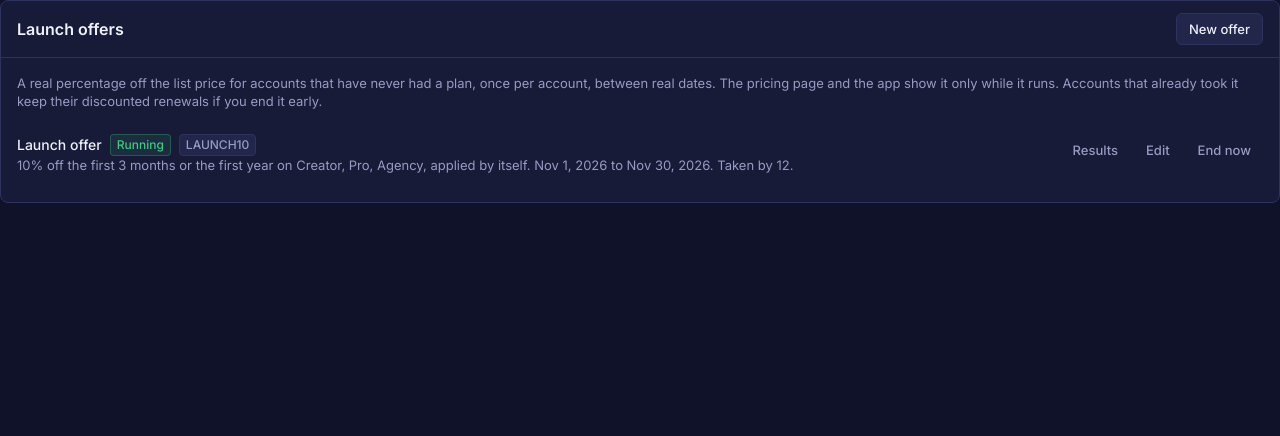
it: admin: launch offers and limits for new sign-ups (BI-9, BI-10) › shows how an offer did: redemptions by plan, discount with and without GST, renewals and conversion
This screenshot has width=1280, height=436.
Click the button "Results".
click(1095, 150)  # box left=1060, top=134, right=1130, bottom=166
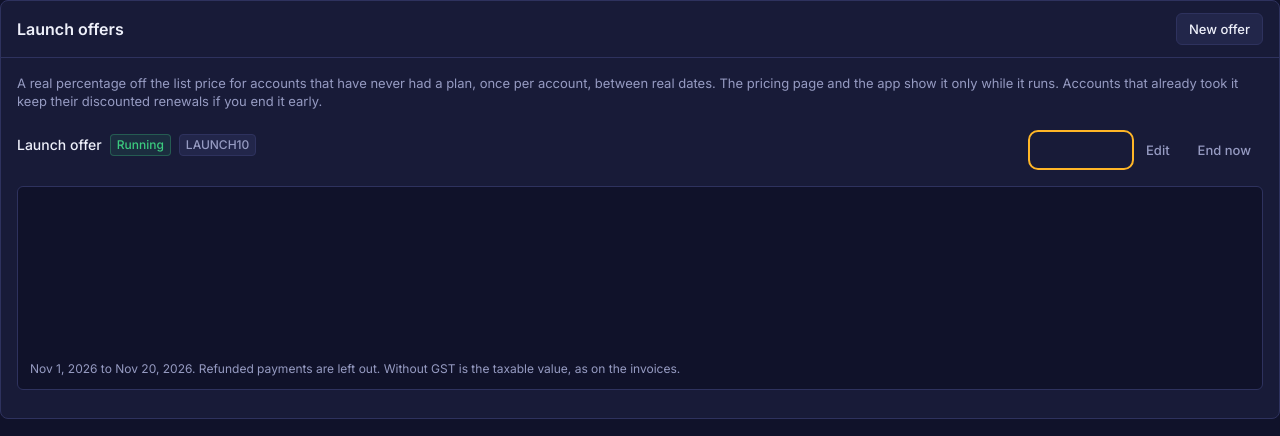
Result: the element with test id "offer-results-7" shows "3 accounts" at left=17, top=186, right=1263, bottom=390
Result: the element with test id "offer-results-7" shows "₹2,300 with GST, ₹1,949.16 without over 4 payments" at left=17, top=186, right=1263, bottom=390
Result: the element with test id "offer-results-7" shows "2 in a discounted period now; 1 with discounted renewals still to come" at left=17, top=186, right=1263, bottom=390
